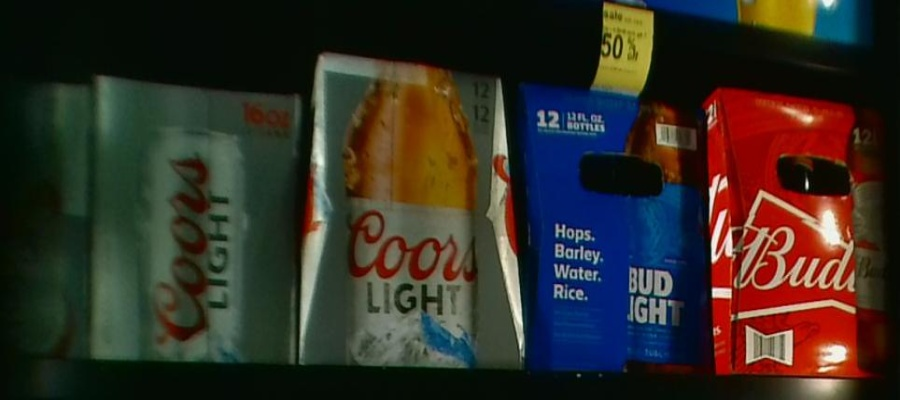bottle: (309, 51, 519, 372), (91, 76, 307, 365), (515, 82, 708, 380), (706, 89, 893, 375), (7, 81, 90, 359)
